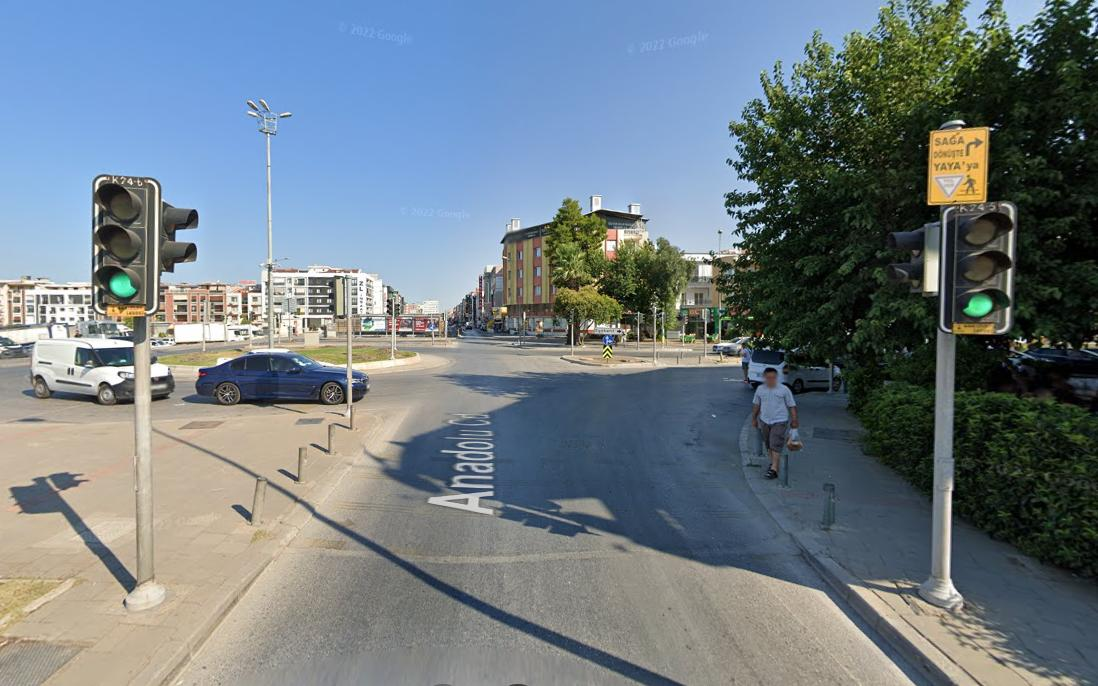greenlight: (94, 176, 158, 323), (945, 198, 1010, 338)
